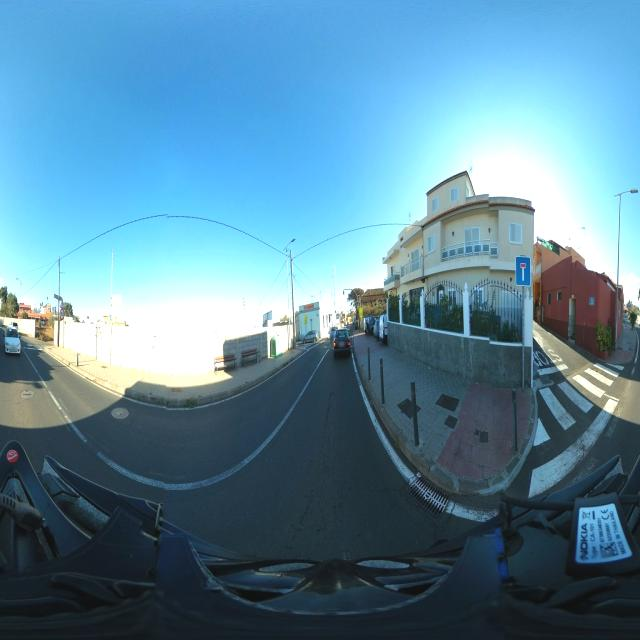car: (332, 327, 352, 360), (4, 327, 21, 357), (240, 346, 259, 366), (377, 313, 389, 343)
